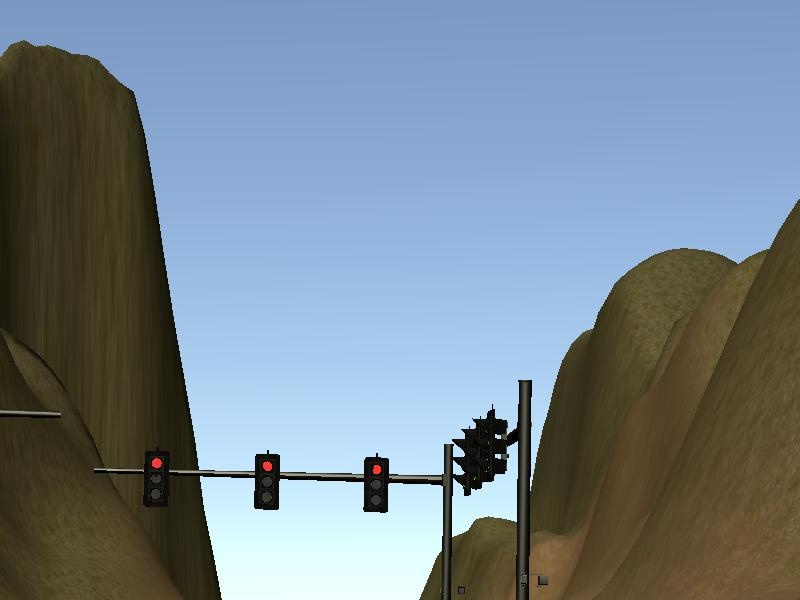traffic_light_red: (127, 446, 446, 515)
